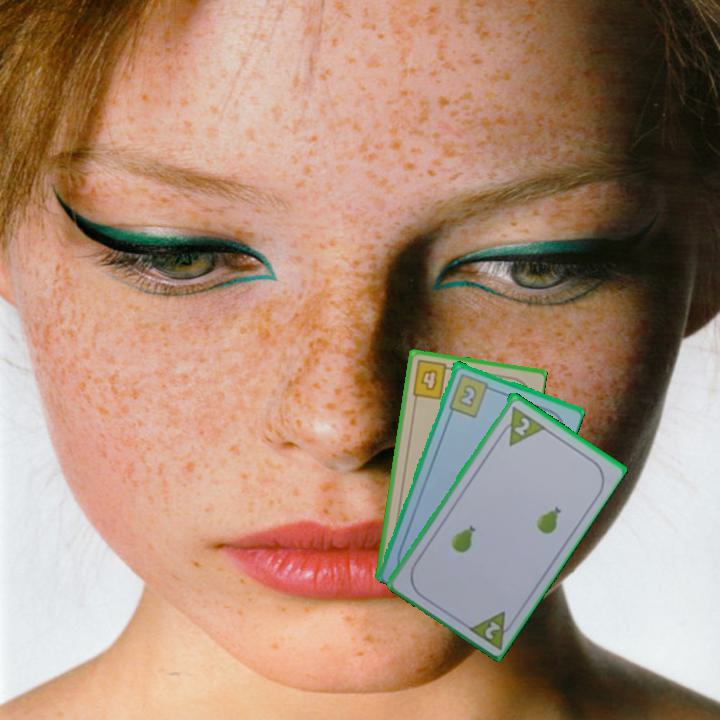2b: (445, 370, 496, 419)
2p: (510, 413, 533, 438), (481, 617, 503, 642)
4b: (409, 357, 456, 402)
